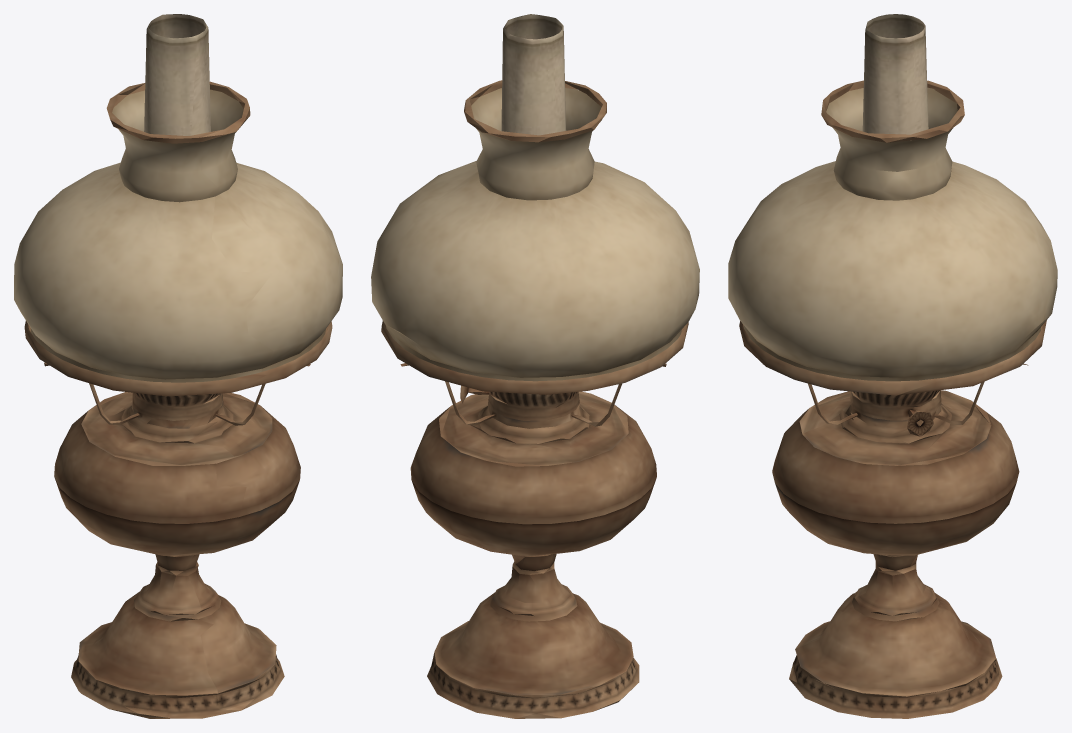
File: lamp-oil-table-a.lod1.glb
3 views of the same model, side by side, from view 1: azimuth 30°, elevation 25°; view 2: azimuth 150°, elevation 25°; view 3: azimuth 270°, elevation 25° (orthographic).
Visible parts, largest first — view 1: lamp-oil-table-a; view 2: lamp-oil-table-a; view 3: lamp-oil-table-a.
Boxes of the visible parts, bbox=[...] form: lamp-oil-table-a: bbox=[14, 14, 342, 718]; lamp-oil-table-a: bbox=[371, 14, 699, 718]; lamp-oil-table-a: bbox=[728, 14, 1057, 718].
Size of the model in its own units: 0.2699 by 0.5884 by 0.2701.
Materials: 2 (2 with a texture image).
